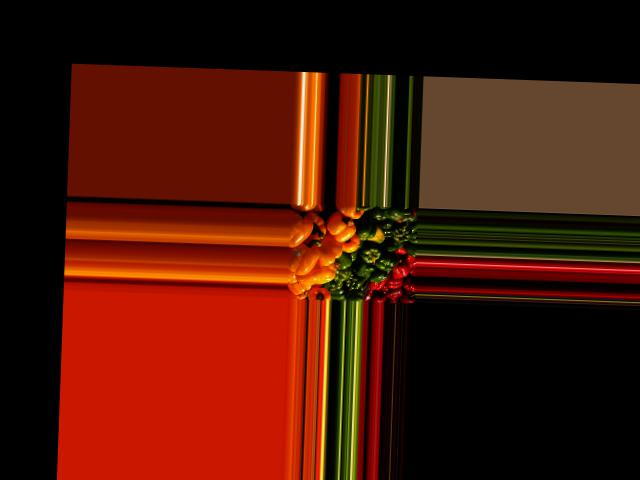bell_pepper: (394, 205, 418, 223)
